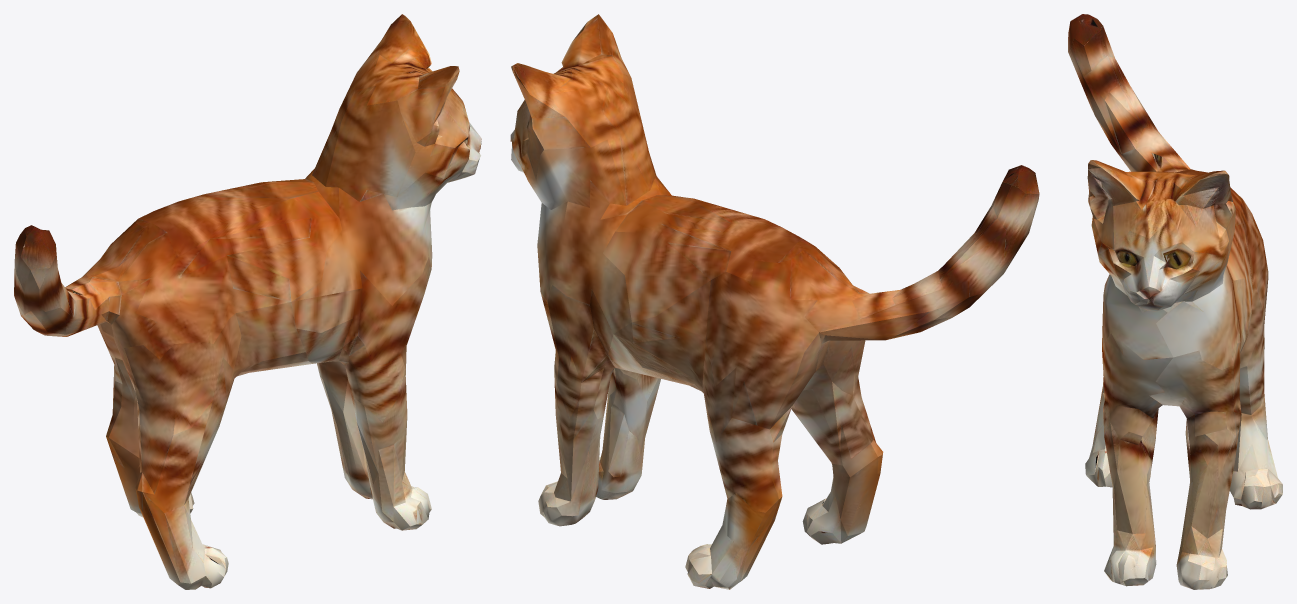
The model's file is JOCKCAT-lo.glb.
3 renders of one model, left to right at view 1: azimuth 30°, elevation 25°; view 2: azimuth 150°, elevation 25°; view 3: azimuth 270°, elevation 25°, orthographic. The views are drawn at different scales.
Visible parts, largest first — view 1: output_unwrapped; view 2: output_unwrapped; view 3: output_unwrapped.
Part boxes in pixels (<box>): output_unwrapped: <box>14,14,481,589</box>; output_unwrapped: <box>510,14,1039,589</box>; output_unwrapped: <box>1068,14,1282,589</box>.
Bounding box in the file's own units: 1.12 × 1 × 0.4468.
1 material, 1 textured.
